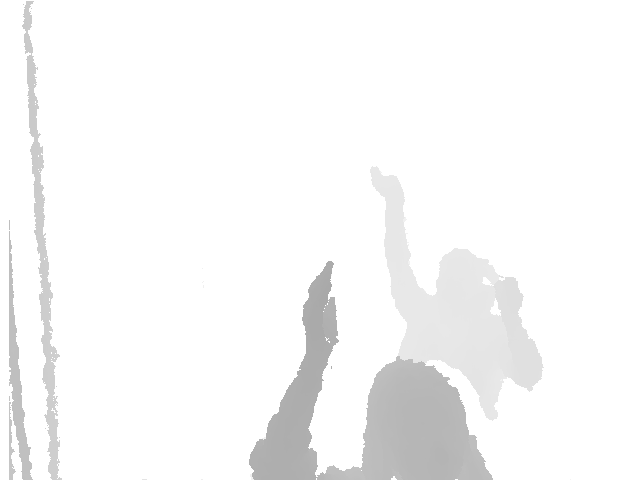hand: (301, 260, 338, 356), (369, 165, 405, 205)
head: (366, 360, 471, 480), (435, 247, 490, 308)
person: (246, 260, 492, 480), (369, 165, 546, 419)
